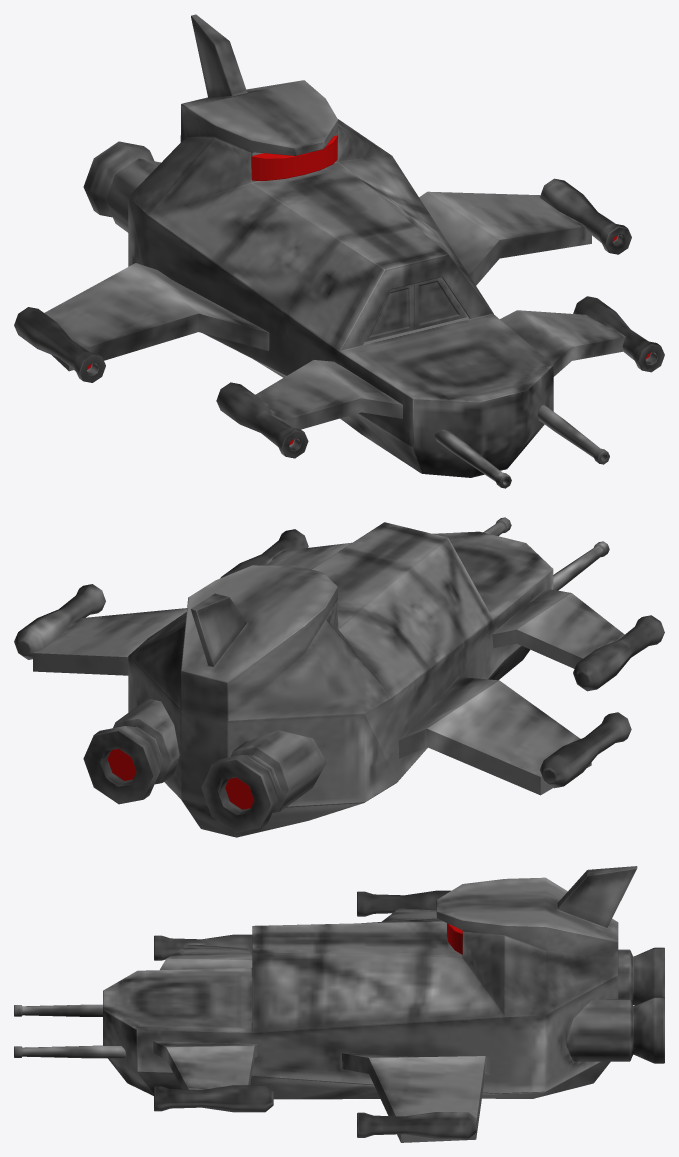
File: pirate_ship.obj
3 views of the same model, one above another, from view 1: azimuth 30°, elevation 25°; view 2: azimuth 150°, elevation 25°; view 3: azimuth 270°, elevation 25° (orthographic). The views are drawn at different scales.
Visible parts, largest first — view 1: Cube.015; view 2: Cube.015; view 3: Cube.015.
Part boxes in pixels (bbox=[...]): Cube.015: bbox=[14, 14, 664, 488]; Cube.015: bbox=[14, 517, 664, 837]; Cube.015: bbox=[14, 866, 664, 1142].
Size of the model in its own units: 15.1 by 6.32 by 17.81.
